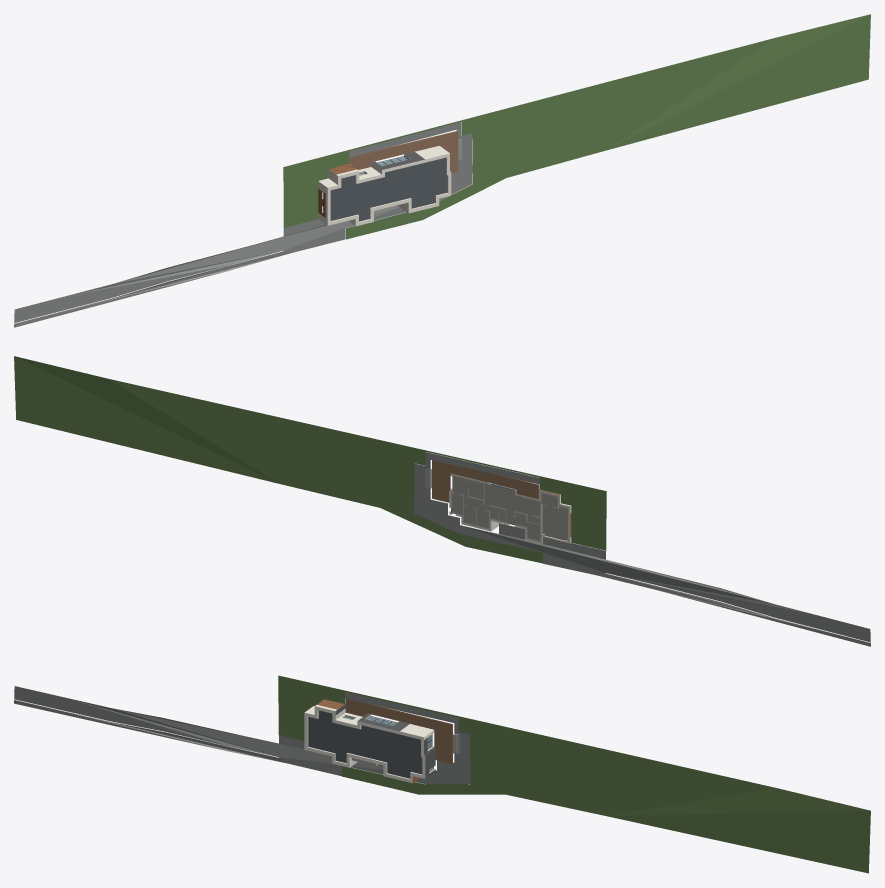
Rendered from dom_model.obj.
3 views of the same model, one above another, from view 1: azimuth 30°, elevation 25°; view 2: azimuth 150°, elevation 25°; view 3: azimuth 330°, elevation 25° (orthographic). The views are drawn at different scales.
Visible parts, largest first — view 1: TEREN_trawnik_PZT, PODWORKO_kostka_PZT, DACH_wypelnienie_BEZ_SPADKOW, DACH_attyka, TARAS_PZT; view 2: TEREN_trawnik_PZT, PODWORKO_kostka_PZT, TARAS_PZT, R13_Garaz_posadzka, R10_Salon_posadzka; view 3: TEREN_trawnik_PZT, PODWORKO_kostka_PZT, DACH_wypelnienie_BEZ_SPADKOW, TARAS_PZT, DACH_attyka.
Part boxes in pixels (bbox=[...]): TEREN_trawnik_PZT: bbox=[283, 14, 870, 239]; PODWORKO_kostka_PZT: bbox=[14, 122, 472, 327]; DACH_wypelnienie_BEZ_SPADKOW: bbox=[330, 157, 447, 221]; DACH_attyka: bbox=[327, 153, 451, 226]; TARAS_PZT: bbox=[349, 130, 458, 173]; TEREN_trawnik_PZT: bbox=[14, 356, 606, 563]; PODWORKO_kostka_PZT: bbox=[414, 452, 870, 646]; TARAS_PZT: bbox=[432, 460, 539, 502]; R13_Garaz_posadzka: bbox=[542, 505, 567, 539]; R10_Salon_posadzka: bbox=[484, 484, 514, 516]; TEREN_trawnik_PZT: bbox=[278, 675, 870, 873]; PODWORKO_kostka_PZT: bbox=[14, 686, 470, 784]; DACH_wypelnienie_BEZ_SPADKOW: bbox=[308, 710, 422, 778]; TARAS_PZT: bbox=[345, 698, 452, 763]; DACH_attyka: bbox=[304, 706, 425, 783].
Size of the model in its own units: 198 by 20.57 by 7.35.
